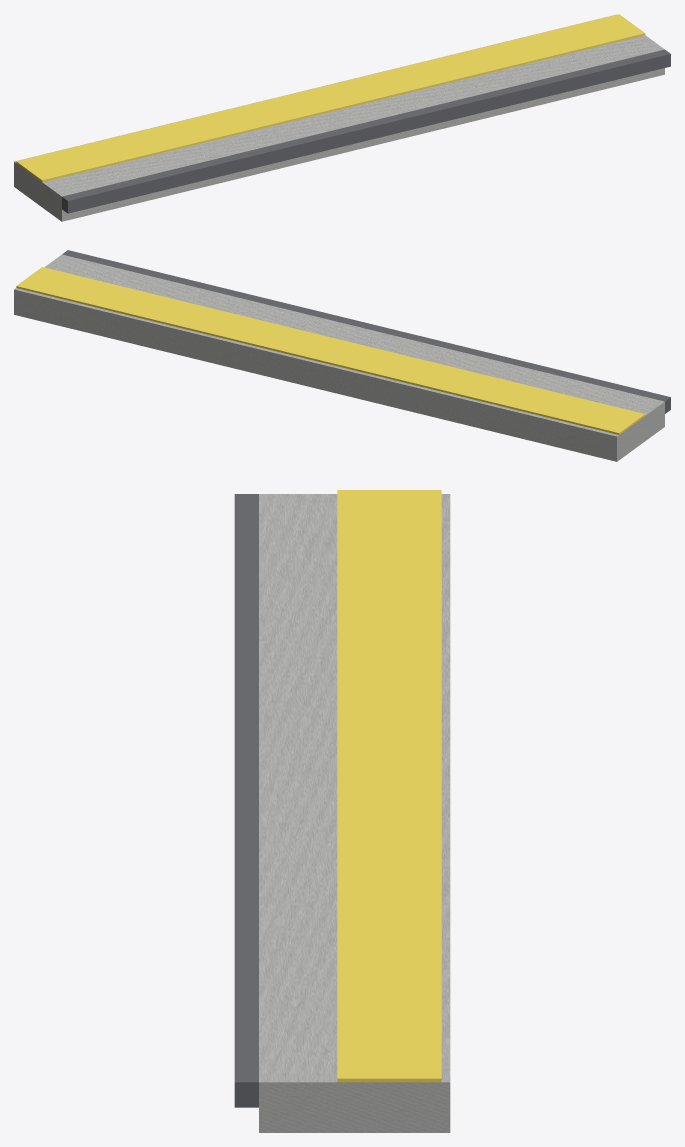
The model's file is bus-station-and-city-transit-kerb-section-raised-board-f3a2600a__34219.glb.
3 views of the same model, one above another, from view 1: azimuth 30°, elevation 25°; view 2: azimuth 150°, elevation 25°; view 3: azimuth 270°, elevation 25° (orthographic). The views are drawn at different scales.
Parts seen in each view (by area): view 1: kerb-section-raised-boarding-concrete, kerb-section-raised-boarding-canary, kerb-section-raised-boarding-charcoal; view 2: kerb-section-raised-boarding-concrete, kerb-section-raised-boarding-canary, kerb-section-raised-boarding-charcoal; view 3: kerb-section-raised-boarding-canary, kerb-section-raised-boarding-concrete, kerb-section-raised-boarding-charcoal.
Boxes of the visible parts, x1,y1,x2,y2 form: kerb-section-raised-boarding-concrete: (14,14,664,221); kerb-section-raised-boarding-canary: (16,14,645,182); kerb-section-raised-boarding-charcoal: (62,49,670,213); kerb-section-raised-boarding-concrete: (14,254,664,461); kerb-section-raised-boarding-canary: (16,267,645,434); kerb-section-raised-boarding-charcoal: (62,250,670,413); kerb-section-raised-boarding-canary: (337,490,441,1082); kerb-section-raised-boarding-concrete: (259,494,450,1132); kerb-section-raised-boarding-charcoal: (234,494,258,1107).
Size of the model in its own units: 4 by 0.1722 by 0.6198.
Materials: 3 (1 with a texture image).
